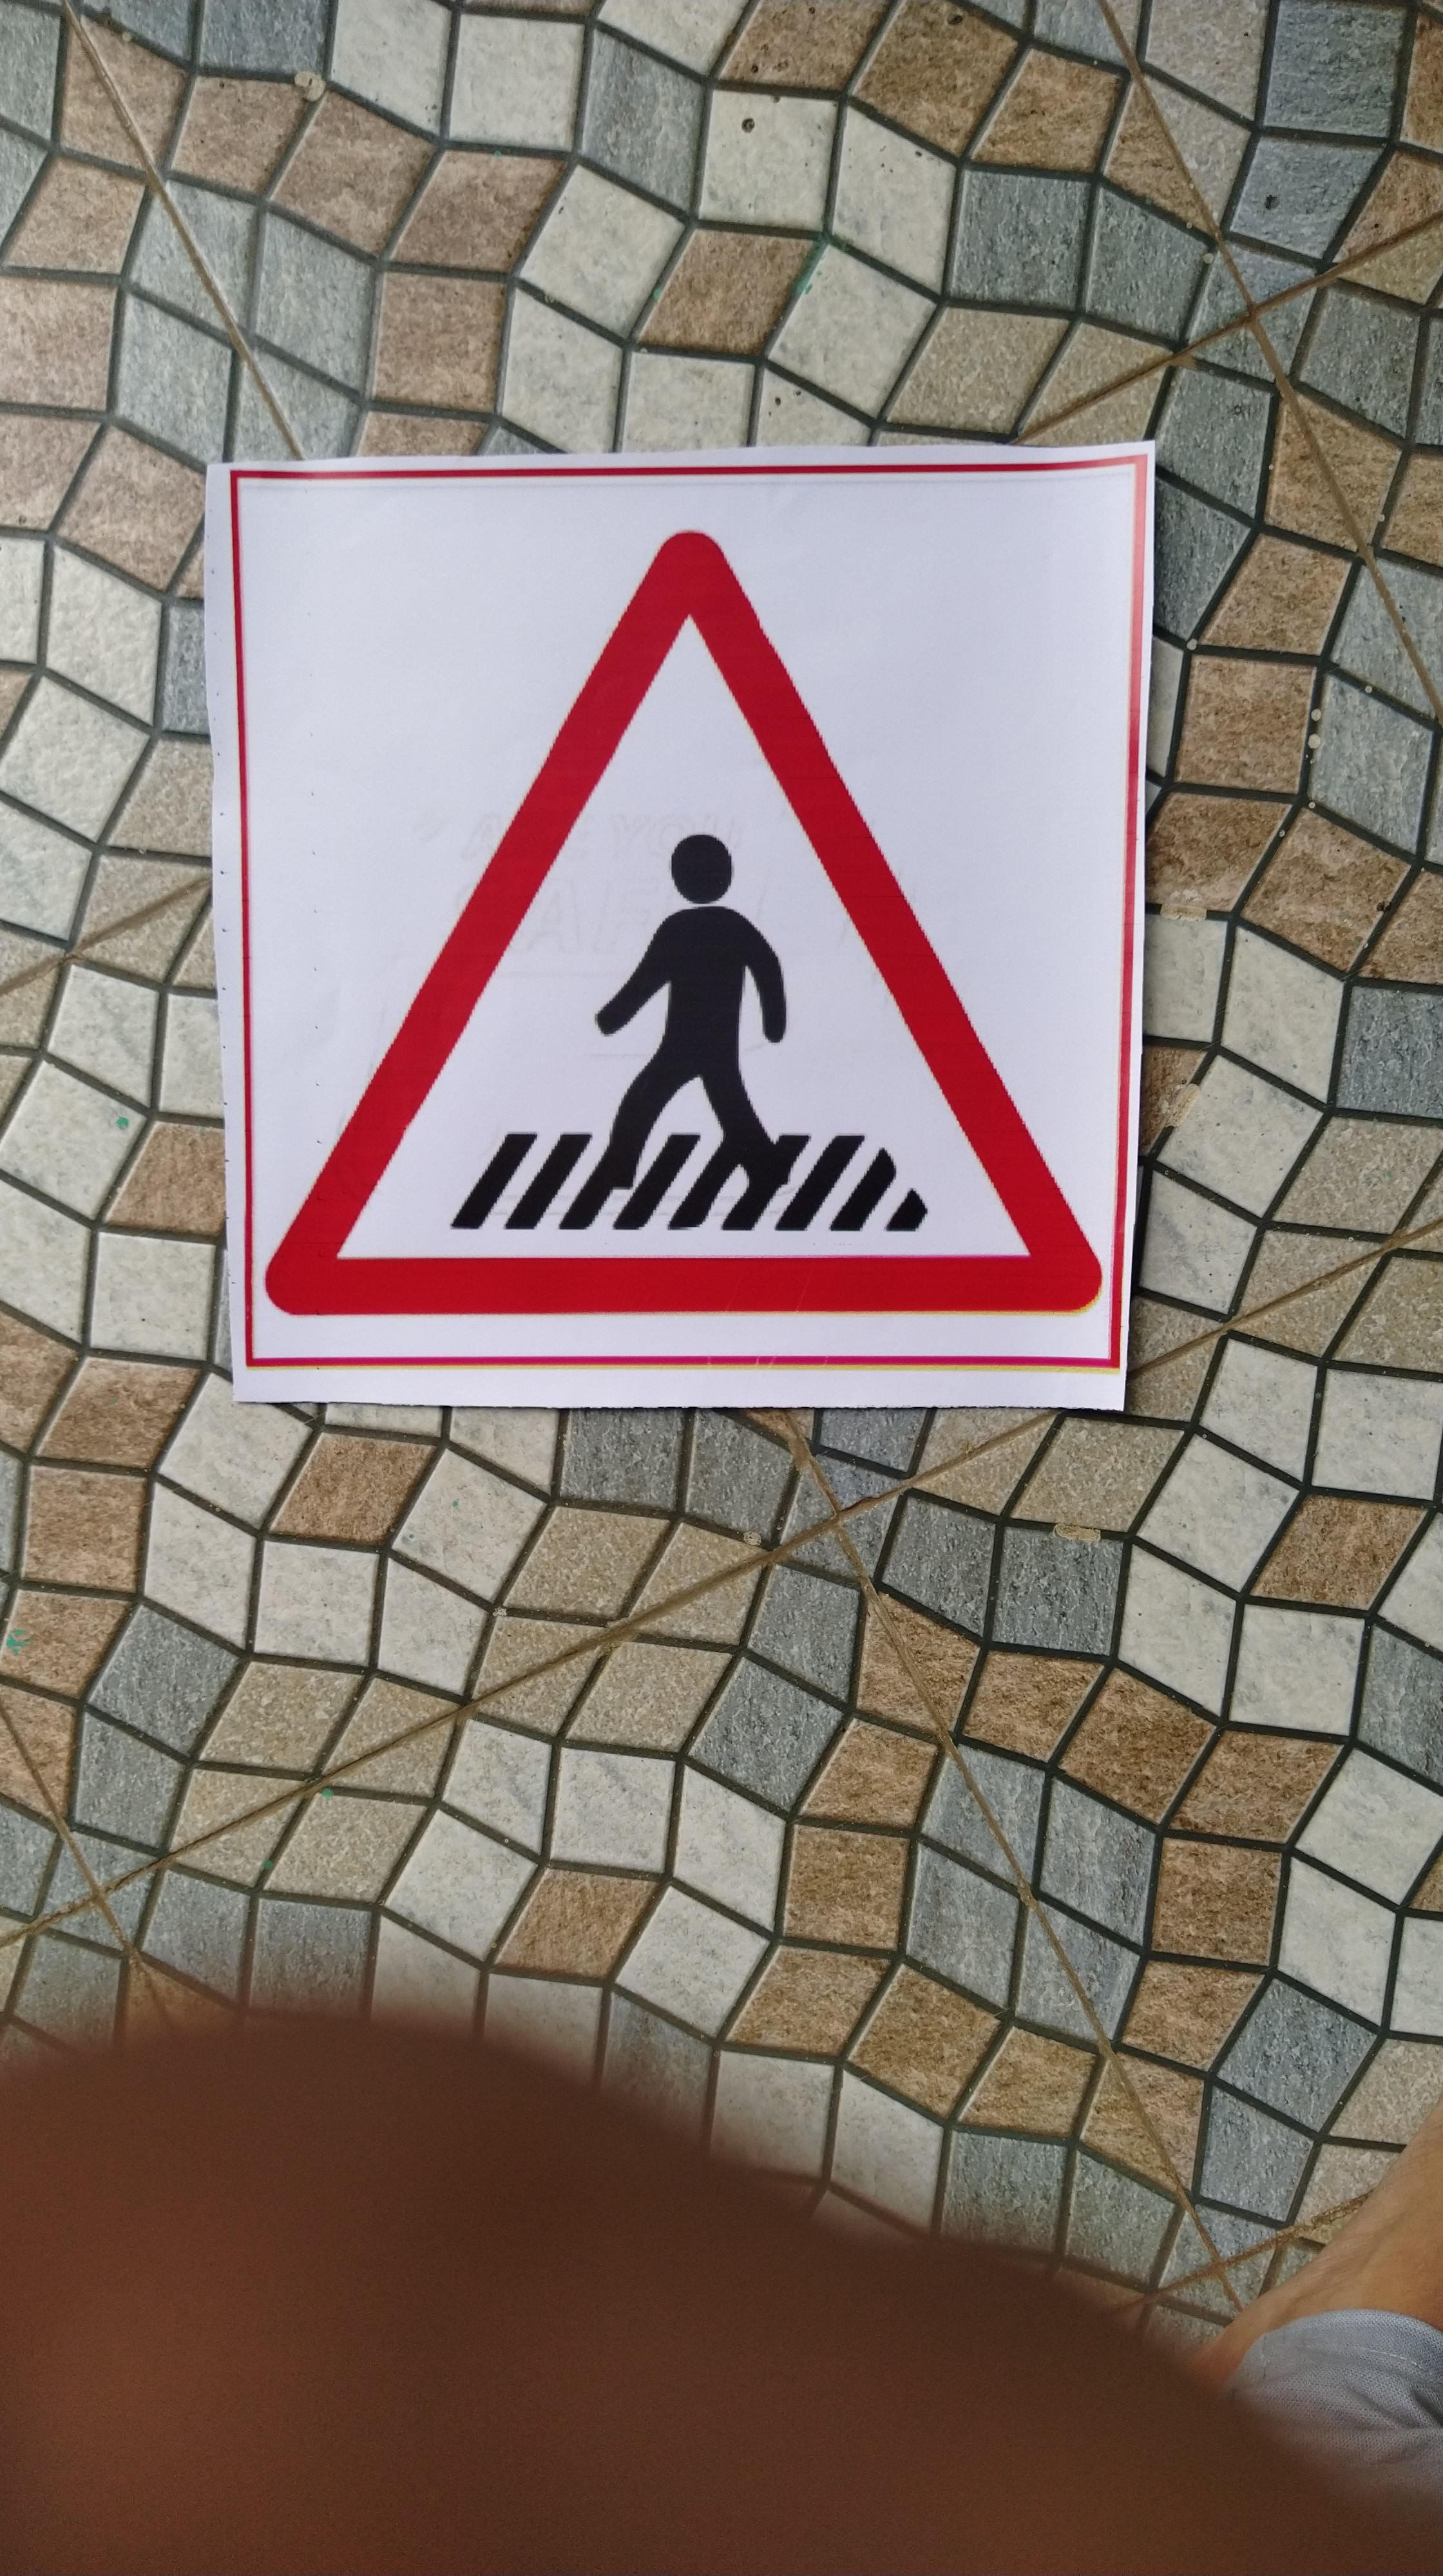pedestrain crossing: (234, 502, 1105, 1364)
